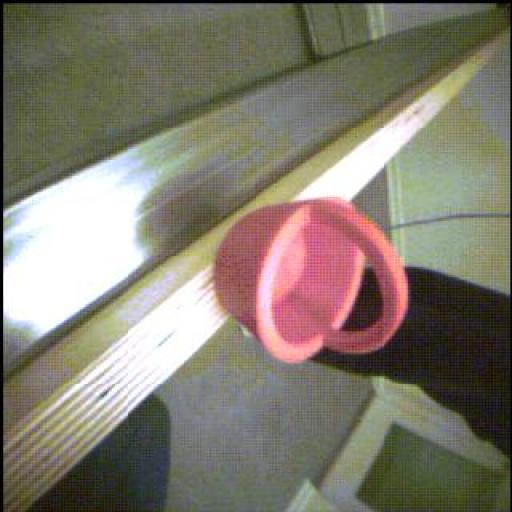Bucket: (212, 189, 418, 372), (211, 189, 414, 369)
